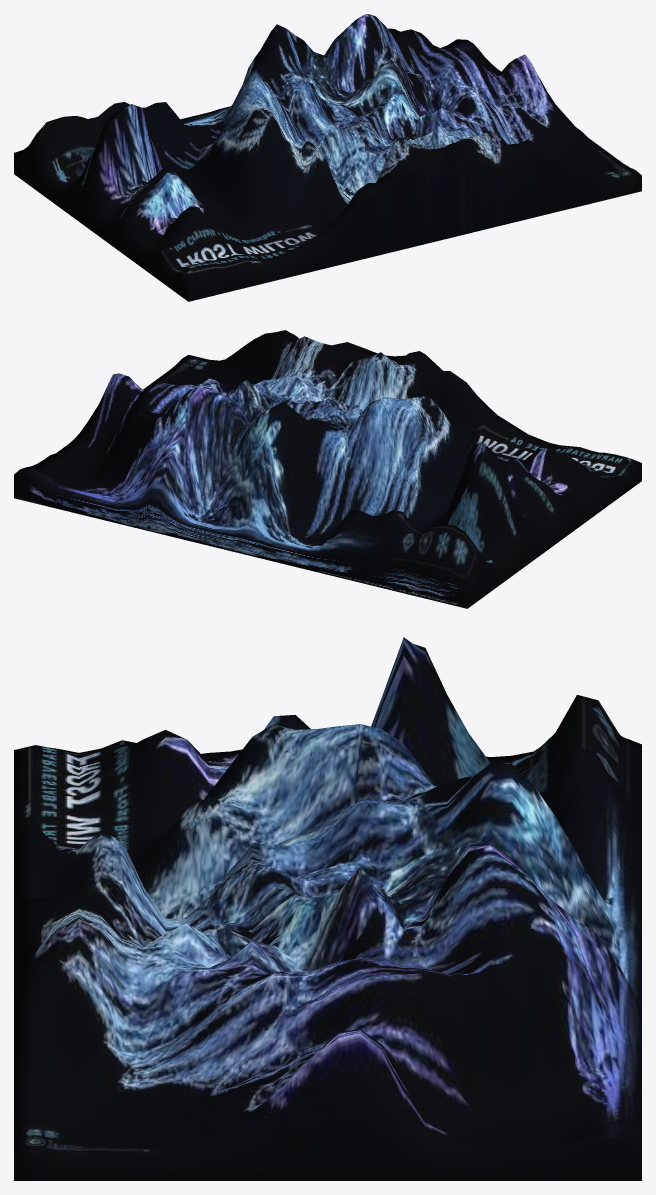
File: TREE_04_Frost_Willow.glb
The picture shows the model from 3 angles, top to bottom: view 1: azimuth 30°, elevation 25°; view 2: azimuth 150°, elevation 25°; view 3: azimuth 270°, elevation 25°; orthographic projection. The views are drawn at different scales.
Parts seen in each view (by area): view 1: TREE_04_Frost_Willow; view 2: TREE_04_Frost_Willow; view 3: TREE_04_Frost_Willow.
Boxes of the visible parts, left/top/right/bottom form: TREE_04_Frost_Willow: left=14, top=14, right=641, bottom=301; TREE_04_Frost_Willow: left=14, top=330, right=641, bottom=608; TREE_04_Frost_Willow: left=14, top=637, right=641, bottom=1180.
Size of the model in its own units: 2 by 0.51 by 1.33.
Materials: 1 (1 with a texture image).
